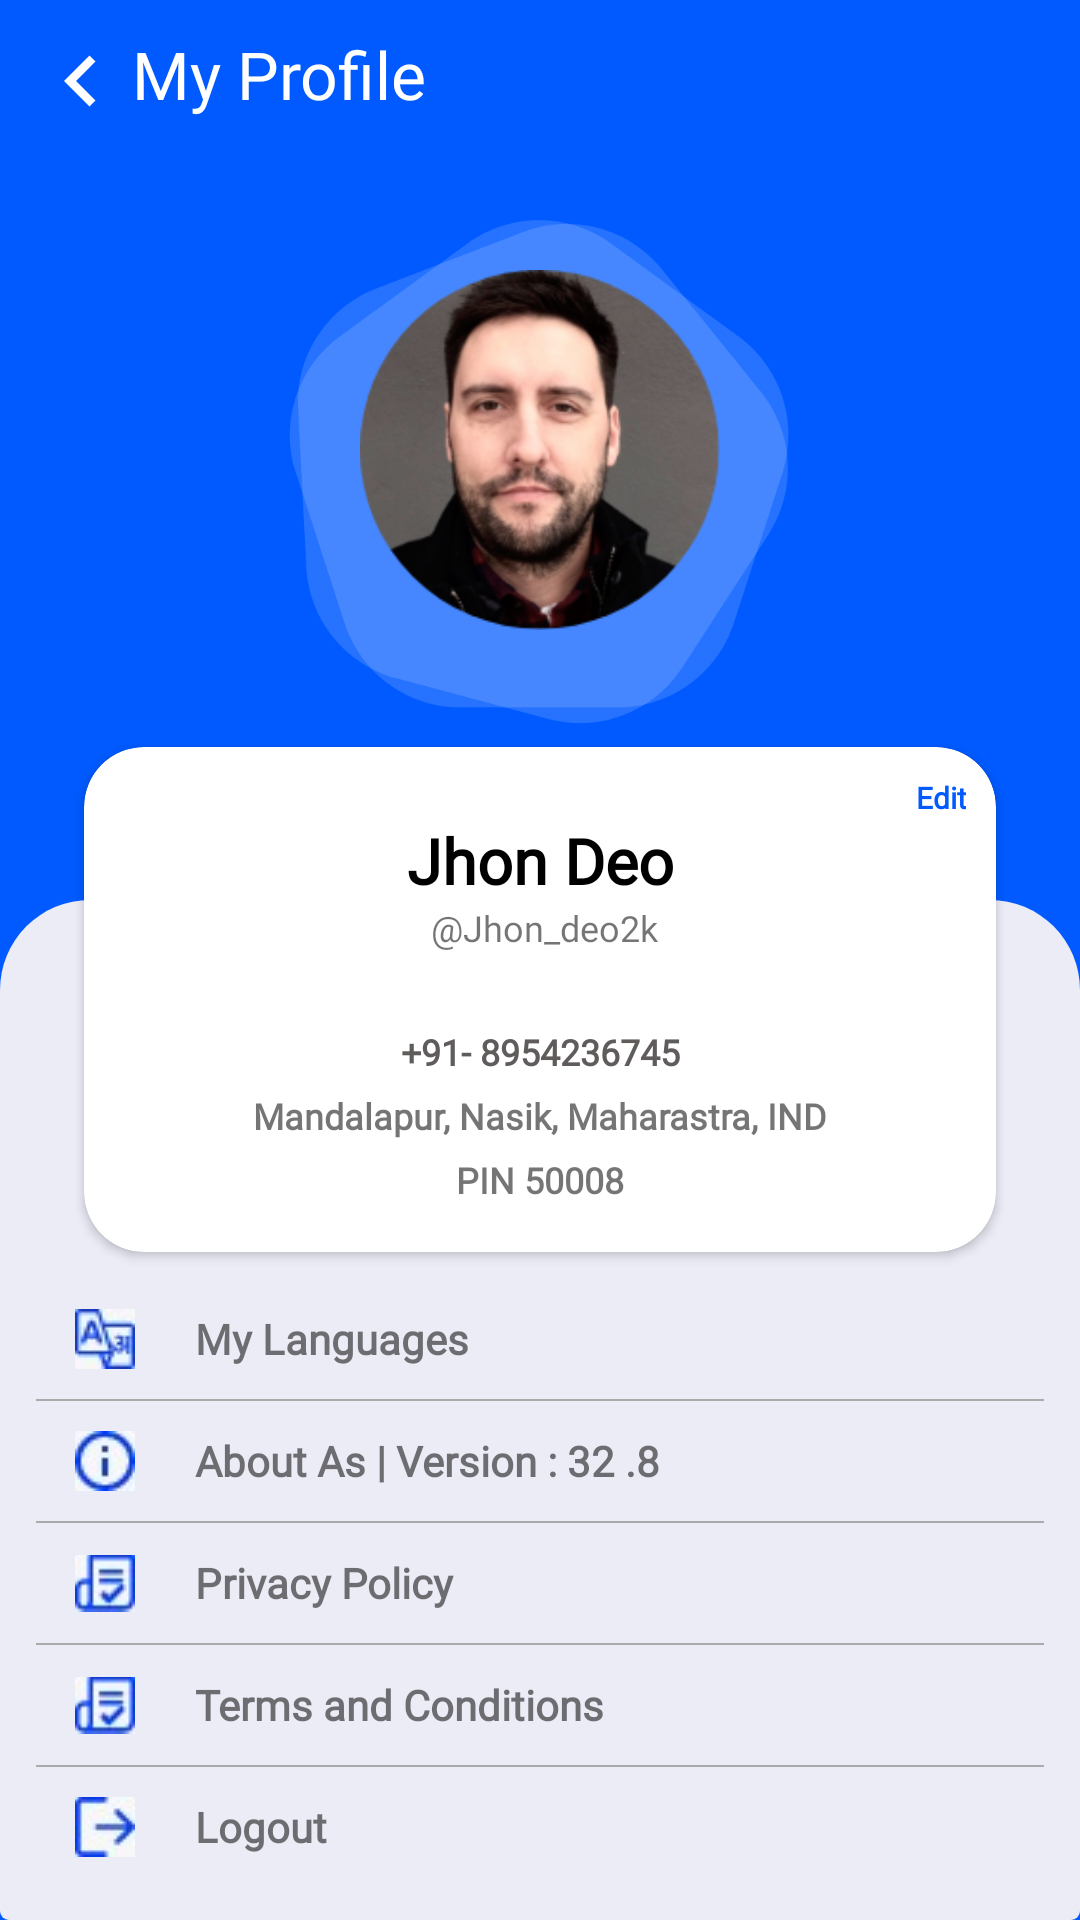

Icons on this 1080w x 1920h Android screen, each with its box as region(x1, y1, x2, y2):
about us: region(75, 1431, 135, 1491)
profile pic: region(360, 270, 720, 630)
